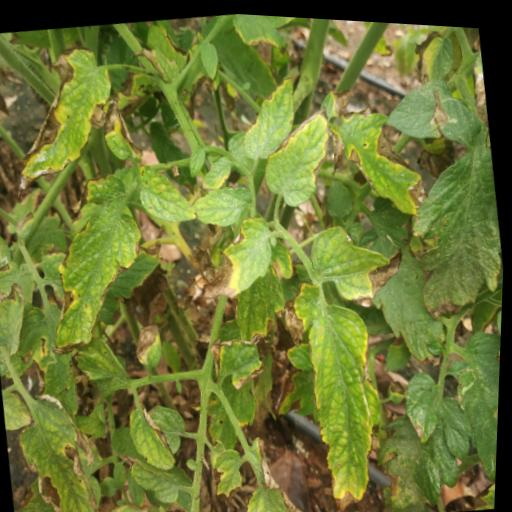Early Blight: (274, 268, 403, 512), (387, 72, 510, 318), (29, 162, 162, 363), (0, 34, 130, 206), (317, 68, 437, 227), (10, 381, 113, 512), (308, 212, 414, 307), (447, 316, 503, 478), (194, 206, 283, 303), (231, 67, 305, 162), (236, 425, 313, 512), (125, 392, 187, 477), (207, 321, 276, 394), (137, 155, 201, 227), (98, 91, 149, 165), (210, 443, 252, 505), (132, 317, 171, 371)
